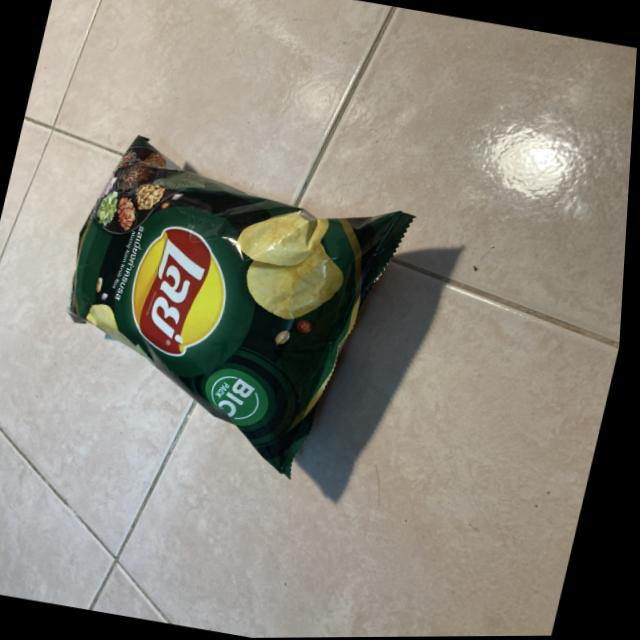Laygreen: (23, 85, 390, 494)
